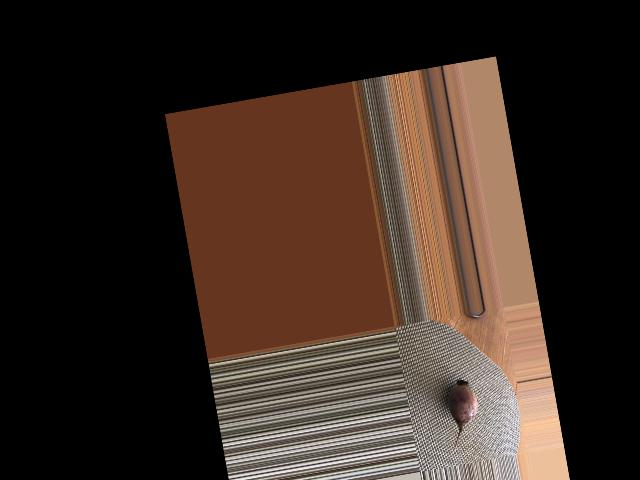beet: (437, 377, 485, 453)
